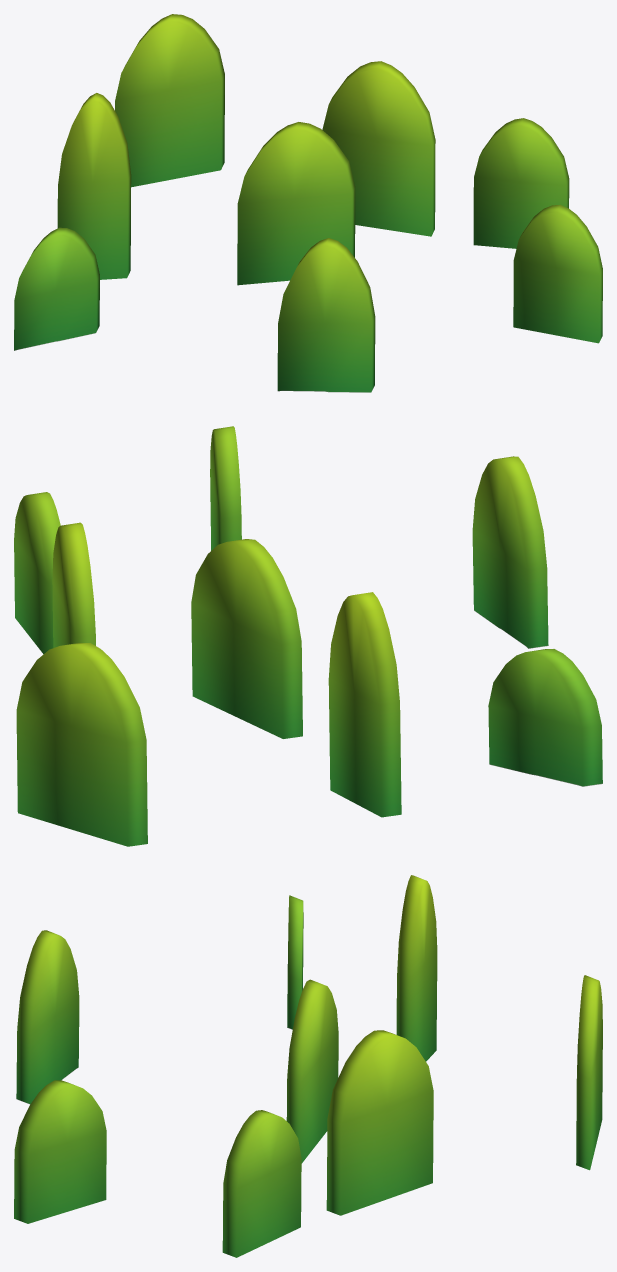
Rendered from Grass.fbx.
3 views of the same model, one above another, from view 1: azimuth 30°, elevation 25°; view 2: azimuth 150°, elevation 25°; view 3: azimuth 270°, elevation 25° (orthographic). The views are drawn at different scales.
Parts seen in each view (by area): view 1: Grass; view 2: Grass; view 3: Grass.
Boxes of the visible parts, x1,y1,x2,y2 form: Grass: [14, 14, 602, 392]; Grass: [14, 426, 602, 846]; Grass: [14, 875, 602, 1257].
Size of the model in its own units: 53.13 by 17.18 by 49.45.
